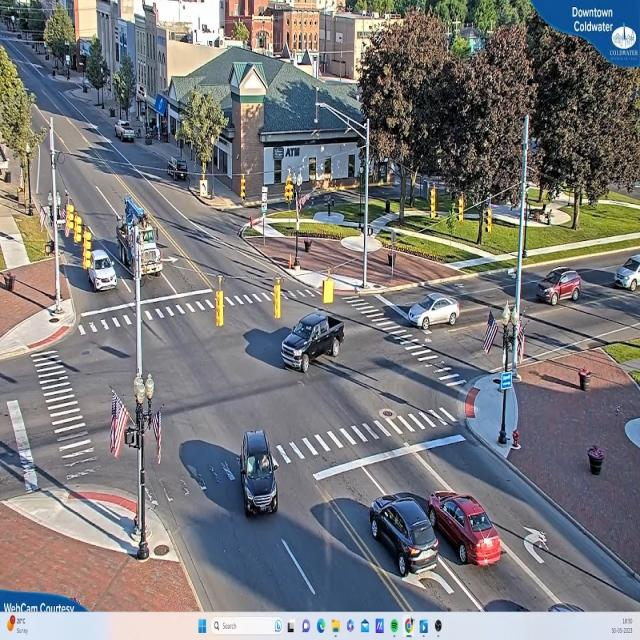car: (368, 494, 442, 579), (426, 491, 506, 568), (282, 311, 346, 372), (242, 429, 282, 518), (383, 293, 461, 332), (487, 269, 551, 306), (537, 270, 582, 307), (88, 245, 116, 294), (615, 253, 640, 290), (117, 122, 137, 145)
truck: (114, 196, 164, 277)
